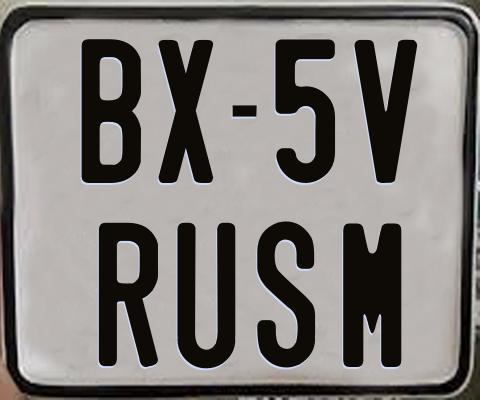5: (274, 37, 340, 184)
B: (82, 39, 146, 184)
M: (343, 223, 404, 367)
R: (98, 220, 161, 369)
S: (255, 221, 316, 368)
U: (175, 222, 235, 370)
V: (354, 40, 418, 183)
X: (155, 39, 212, 188)
